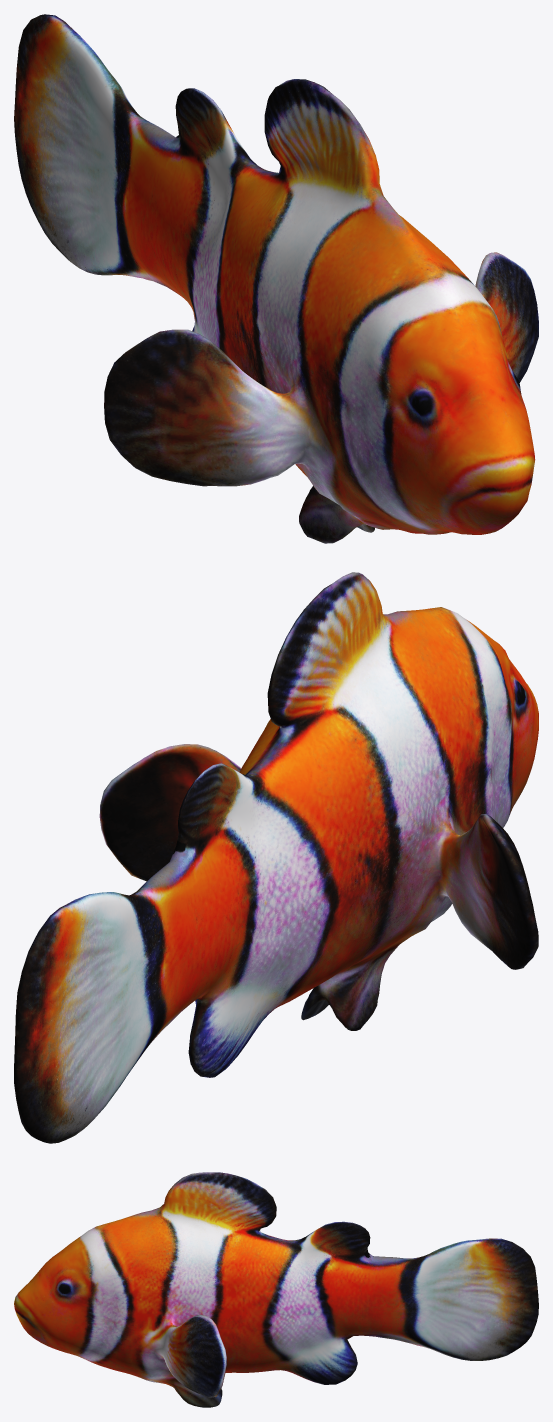
3 renders of one model, top to bottom at view 1: azimuth 30°, elevation 25°; view 2: azimuth 150°, elevation 25°; view 3: azimuth 270°, elevation 25°, orthographic. The views are drawn at different scales.
Parts seen in each view (by area): view 1: Clownfish_Quad; view 2: Clownfish_Quad; view 3: Clownfish_Quad.
Boxes of the visible parts, x1,y1,x2,y2 form: Clownfish_Quad: (14,14,538,543); Clownfish_Quad: (14,572,538,1143); Clownfish_Quad: (14,1172,538,1407).
Bounding box in the file's own units: 0.0322 × 0.0312 × 0.0647.
Materials: 1 (1 with a texture image).
